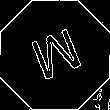M_S: (24, 23, 86, 87)
